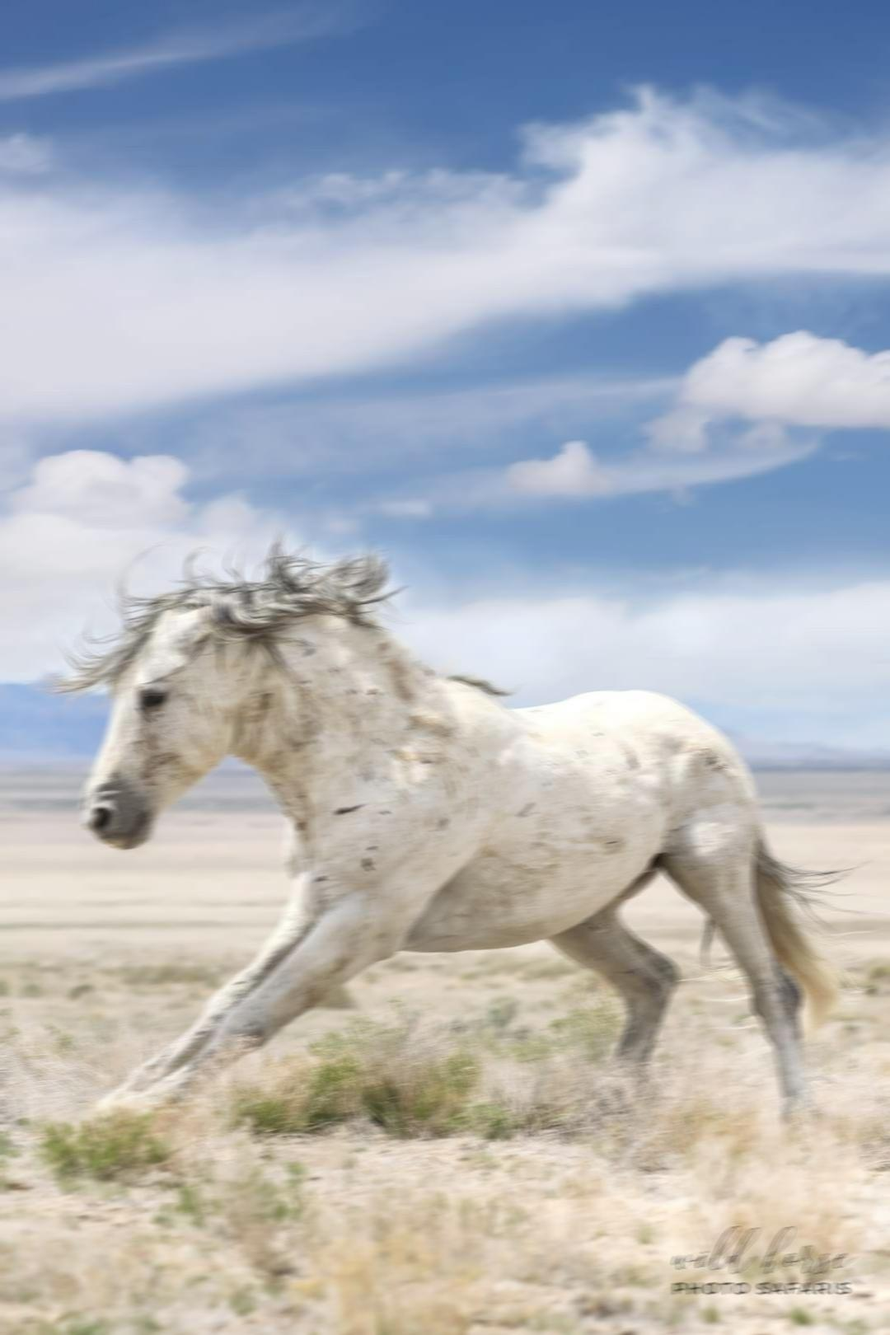horse: (42, 525, 870, 1136)
